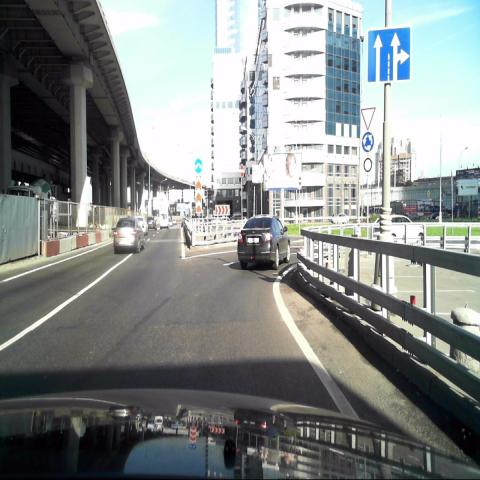2_4: (361, 104, 374, 130)
3_1: (238, 164, 246, 180)
4_2_3: (194, 159, 204, 173)
4_3: (363, 131, 374, 153)
5_15_2_2: (367, 30, 411, 82)
8_13_1: (362, 154, 373, 175)
